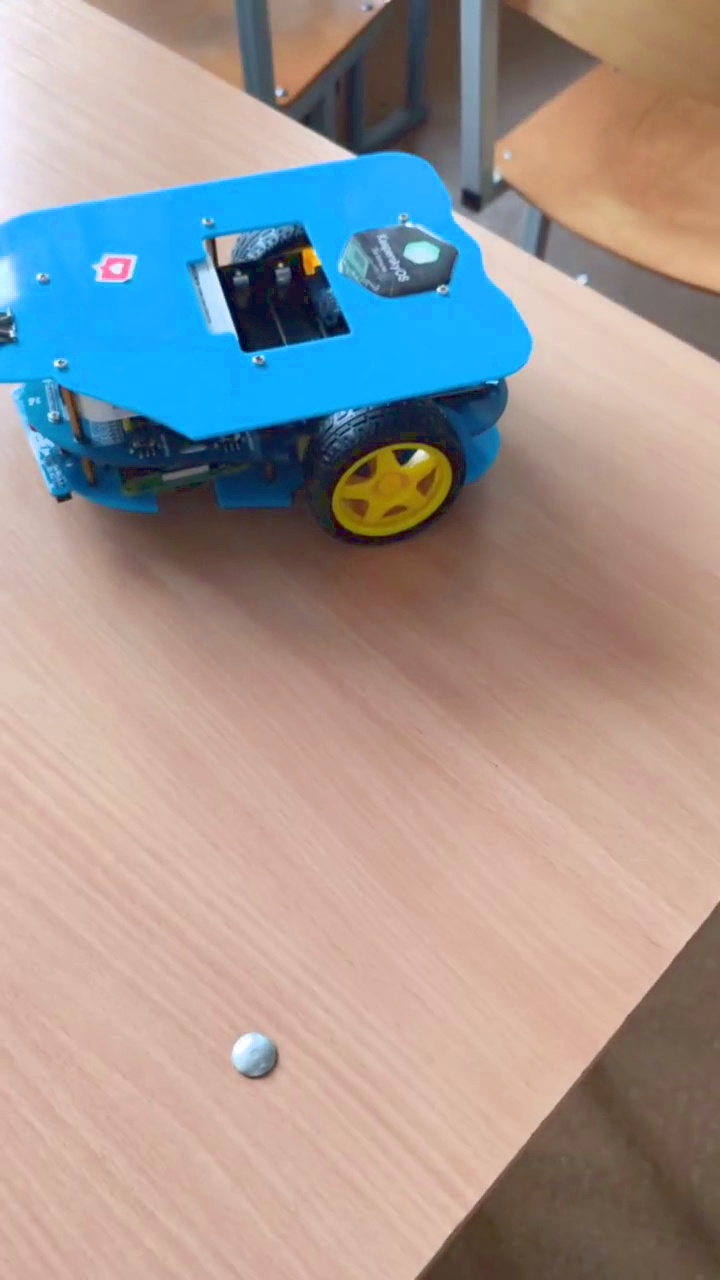robot: (1, 150, 535, 548)
